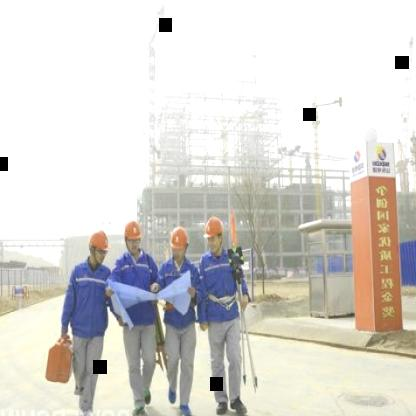helmet: (170, 226, 190, 264), (89, 228, 109, 264), (124, 221, 143, 256), (205, 217, 223, 252)
